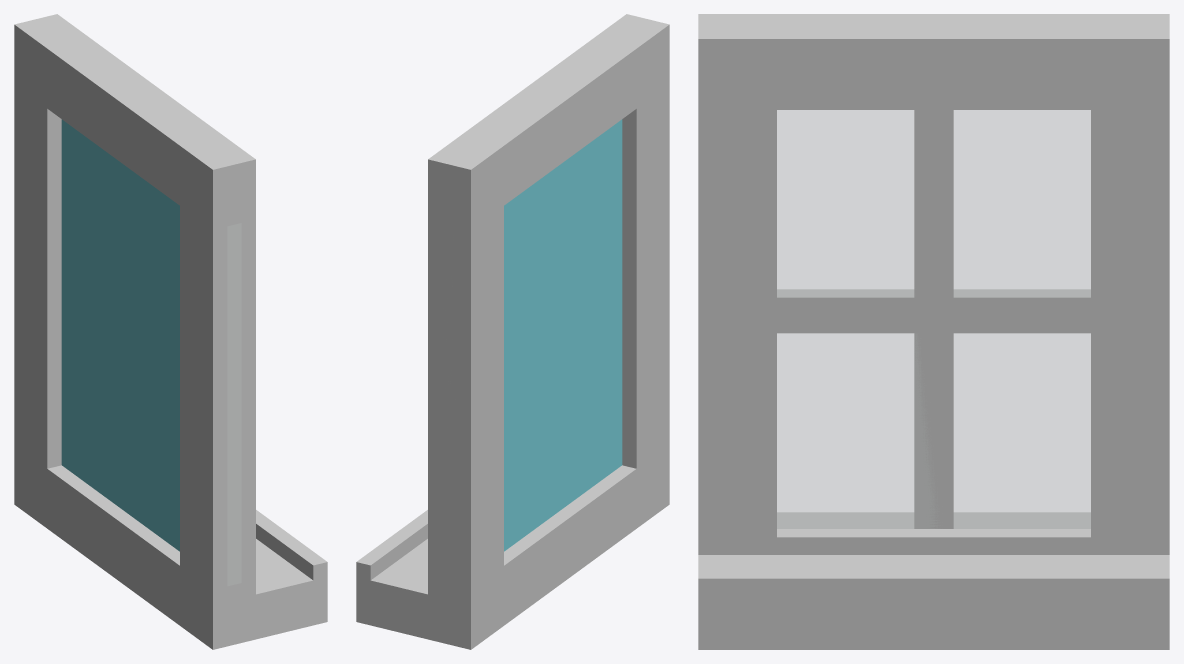
The model's file is Window by Jarlan Perez - 0rglJgQO_ft.glb.
3 renders of one model, left to right at view 1: azimuth 30°, elevation 25°; view 2: azimuth 150°, elevation 25°; view 3: azimuth 270°, elevation 25°, orthographic. The views are drawn at different scales.
Visible parts, largest first — view 1: Node; view 2: Node; view 3: Node.
Part boxes in pixels (x1,y1,x2,y2): Node: (14, 14, 327, 649); Node: (356, 14, 669, 649); Node: (698, 14, 1169, 649).
Bounding box in the file's own units: 0.08 × 0.32 × 0.24.
